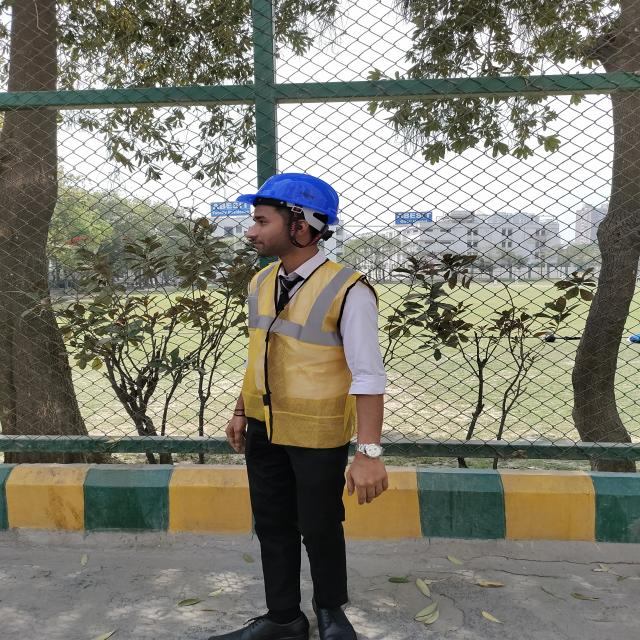safe: (225, 172, 387, 640)
